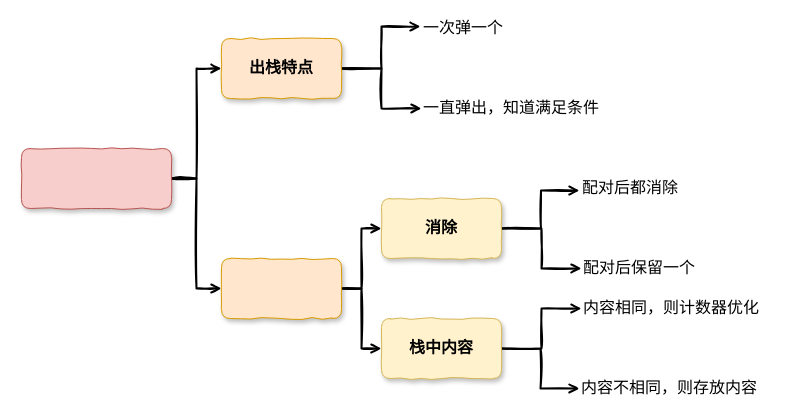
Image size: 789x415. Some labels were removed from this diagram. Here are the shapes that lost their labels. From the top down, the centre of each, then its label:
At point (97, 180): "栈（Stack） 后进先出( LIFO)".
At point (282, 290): "配对&消除".
